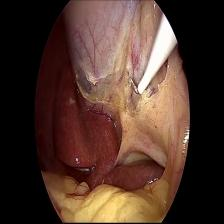Hook: (128, 17, 182, 107)
